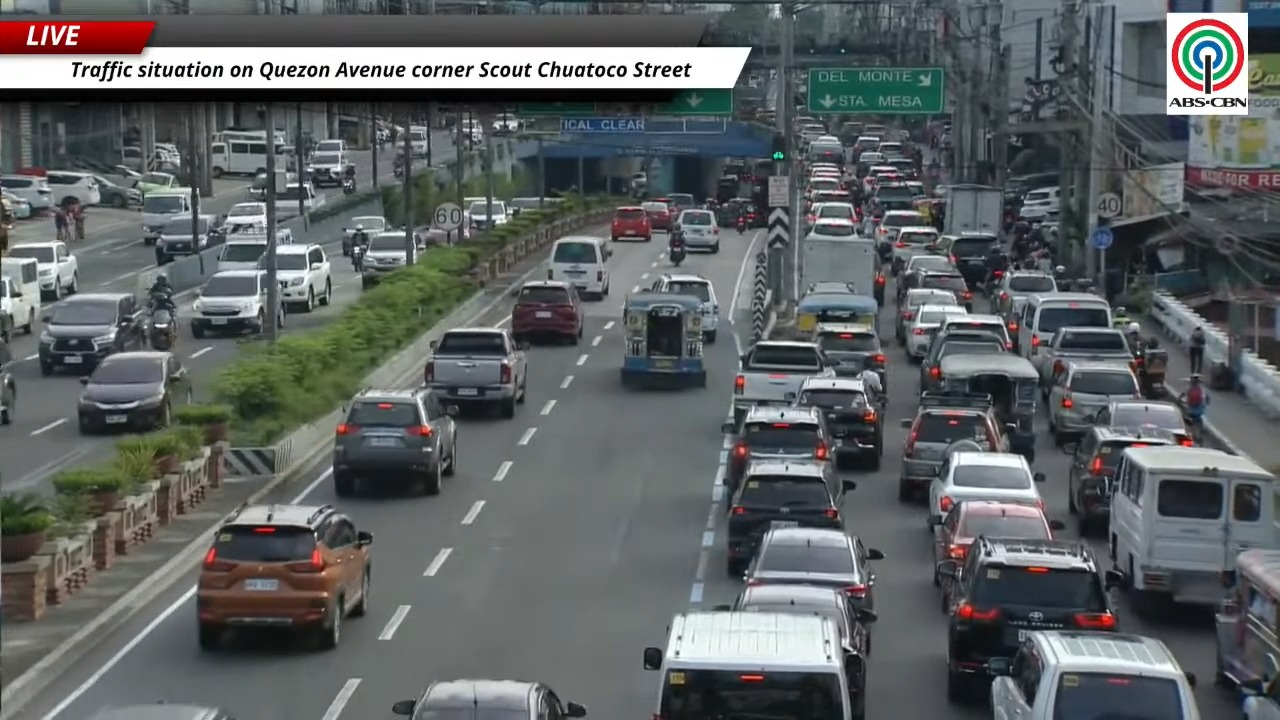bus: (209, 139, 266, 177), (211, 128, 266, 142)
car: (938, 537, 1117, 702), (196, 505, 372, 650), (987, 630, 1199, 719), (726, 460, 855, 577), (332, 388, 457, 496), (716, 584, 877, 667), (1062, 426, 1176, 536), (898, 393, 1006, 501), (745, 526, 883, 609), (717, 584, 877, 655), (77, 350, 190, 433), (722, 405, 830, 490), (928, 451, 1045, 527), (38, 293, 146, 375), (934, 500, 1064, 567), (1047, 360, 1141, 446), (795, 378, 882, 469), (392, 679, 586, 719), (189, 269, 268, 338), (919, 332, 1008, 391), (1091, 399, 1194, 446), (651, 273, 719, 343), (510, 280, 583, 344), (814, 322, 886, 386), (6, 241, 78, 300), (276, 243, 332, 311), (906, 304, 967, 361), (895, 289, 957, 345), (936, 232, 999, 286), (154, 215, 221, 265), (360, 230, 415, 288), (939, 309, 1012, 350), (990, 270, 1056, 314), (896, 255, 954, 303), (90, 702, 234, 719), (890, 225, 938, 275), (864, 210, 927, 245), (918, 271, 972, 311), (0, 174, 54, 212), (45, 170, 101, 206), (674, 210, 720, 253), (341, 216, 387, 255), (306, 149, 354, 186), (93, 175, 141, 208), (611, 206, 652, 241), (0, 339, 16, 424), (223, 202, 265, 233), (806, 202, 857, 225), (998, 305, 1021, 354), (135, 172, 180, 197), (805, 219, 857, 240), (0, 189, 33, 219), (641, 201, 671, 231), (904, 180, 926, 197)
motorcycle: (1135, 339, 1168, 399), (148, 309, 177, 350), (147, 289, 175, 312), (669, 241, 686, 267), (341, 167, 356, 194), (351, 244, 365, 272), (342, 177, 356, 194), (736, 216, 747, 234)
truck: (424, 327, 527, 418), (732, 340, 834, 426), (1038, 327, 1134, 385), (801, 236, 883, 302), (0, 257, 41, 339), (943, 184, 1003, 235), (276, 182, 325, 220), (273, 169, 297, 195)
